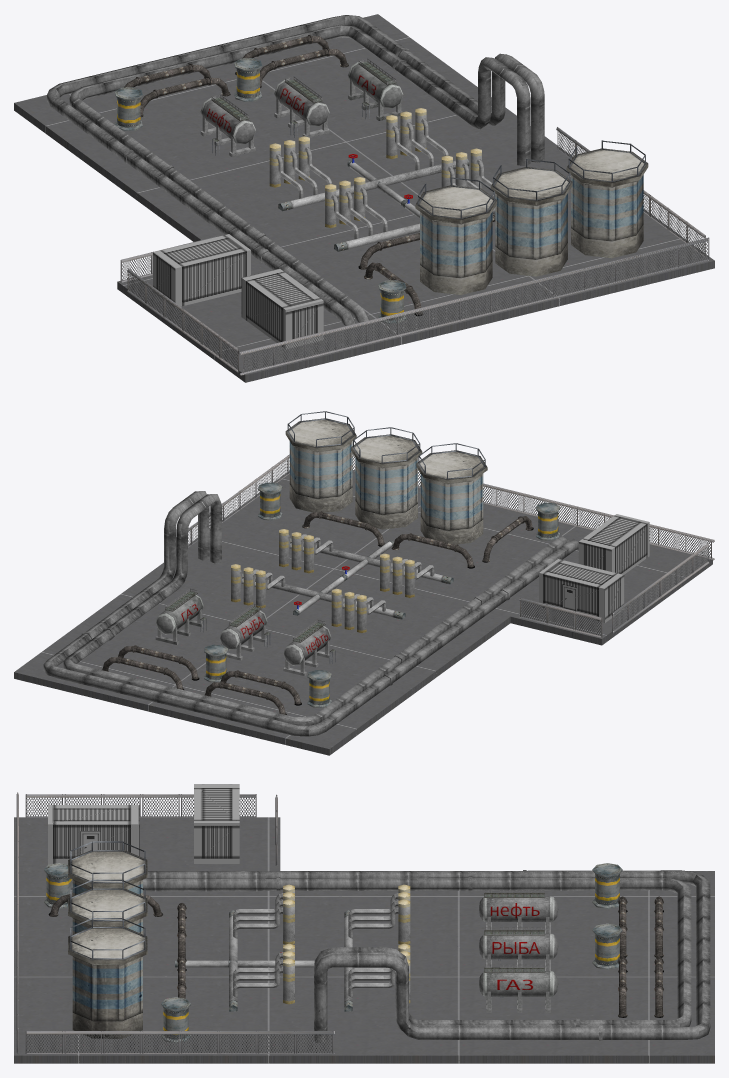
3 views of the same model, one above another, from view 1: azimuth 30°, elevation 25°; view 2: azimuth 150°, elevation 25°; view 3: azimuth 270°, elevation 25° (orthographic). The views are drawn at different scales.
Parts seen in each view (by area): view 1: ground, tube_1, fence, hogshead_3, hogshead_1, hogshead_2, tube_complex_2, container_018, container_017, tube_complex_1, tube_2, tank_3 (+6 smaller); view 2: ground, tube_1, fence, hogshead_1, hogshead_3, hogshead_2, container_018, tube_complex_2, tube_complex_1, container_017, tube_2, tank_3 (+8 smaller); view 3: ground, tube_1, fence, hogshead_1, tube_complex_1, container_017, container_018, tube_complex_2, hogshead_2, hogshead_3, tank_1, tank_2 (+7 smaller).
Boxes of the visible parts, left/top/right/bottom form: ground: left=14, top=14, right=714, bottom=382; tube_1: left=47, top=15, right=544, bottom=325; fence: left=120, top=127, right=709, bottom=375; hogshead_3: left=415, top=177, right=497, bottom=294; hogshead_1: left=566, top=140, right=648, bottom=258; hogshead_2: left=490, top=158, right=572, bottom=276; tube_complex_2: left=269, top=108, right=469, bottom=211; container_018: left=153, top=234, right=250, bottom=307; container_017: left=241, top=268, right=323, bottom=349; tube_complex_1: left=325, top=148, right=495, bottom=251; tube_2: left=124, top=35, right=348, bottom=117; tank_3: left=200, top=94, right=255, bottom=156; ground: left=14, top=470, right=712, bottom=755; tube_1: left=43, top=491, right=578, bottom=736; fence: left=176, top=453, right=714, bottom=637; hogshead_1: left=285, top=411, right=356, bottom=512; hogshead_3: left=416, top=443, right=487, bottom=544; hogshead_2: left=351, top=427, right=422, bottom=529; container_018: left=539, top=559, right=624, bottom=622; tube_complex_2: left=231, top=564, right=405, bottom=632; tube_complex_1: left=279, top=529, right=453, bottom=597; container_017: left=578, top=514, right=649, bottom=574; tube_2: left=102, top=645, right=301, bottom=714; tank_3: left=283, top=620, right=335, bottom=676; ground: left=14, top=817, right=714, bottom=1063; tube_1: left=71, top=870, right=710, bottom=1042; fence: left=16, top=792, right=334, bottom=1053; hogshead_1: left=68, top=918, right=147, bottom=1038; tube_complex_1: left=175, top=884, right=294, bottom=1011; container_017: left=48, top=805, right=139, bottom=864; container_018: left=194, top=784, right=239, bottom=863; tube_complex_2: left=295, top=884, right=410, bottom=1011; hogshead_2: left=68, top=879, right=147, bottom=934; hogshead_3: left=68, top=841, right=147, bottom=895; tank_1: left=479, top=964, right=558, bottom=1012; tank_2: left=479, top=927, right=558, bottom=970.
Bounding box in the file's own units: 48.68 × 9.59 × 60.04.
